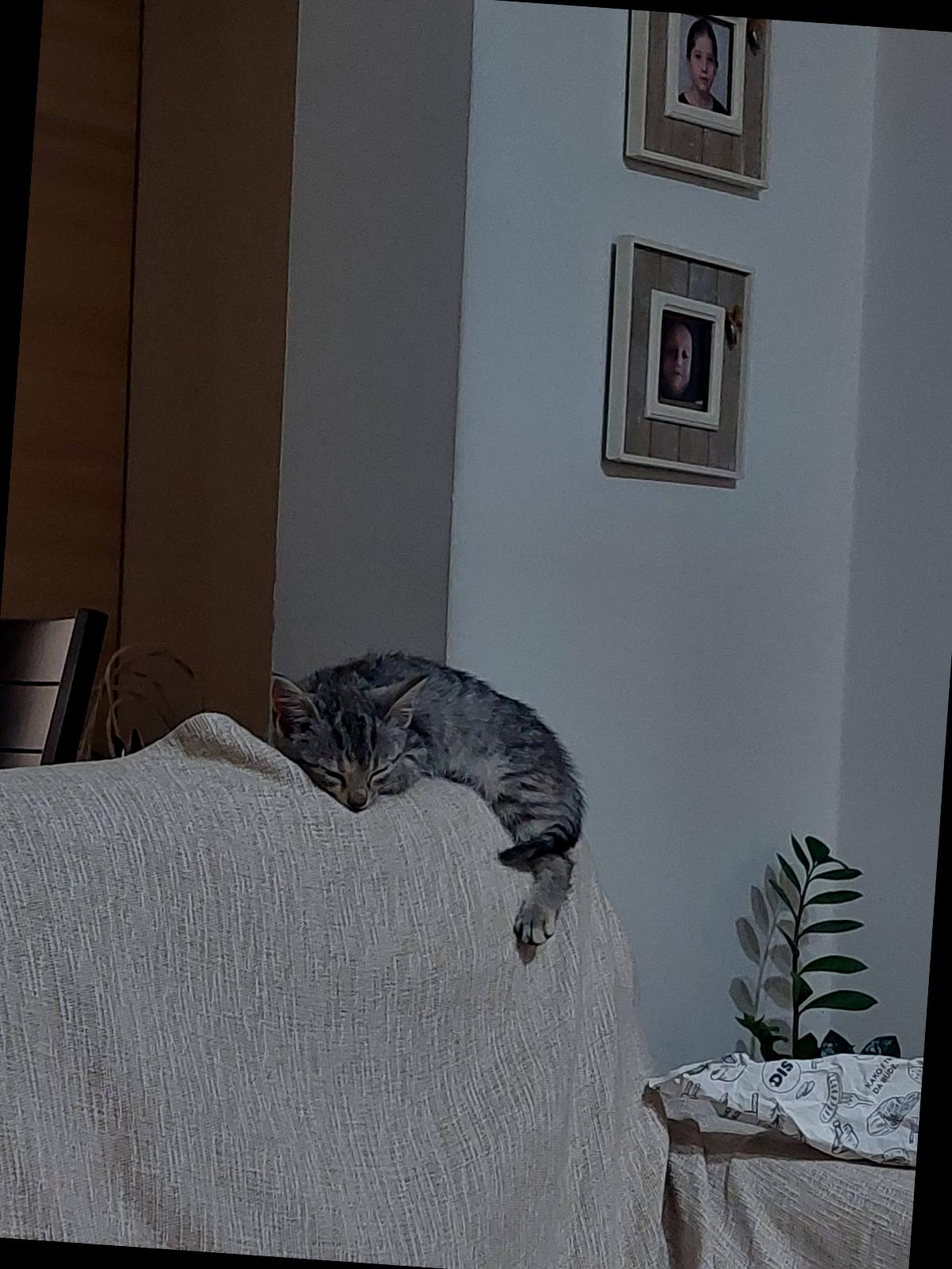macka: (250, 642, 601, 955)
